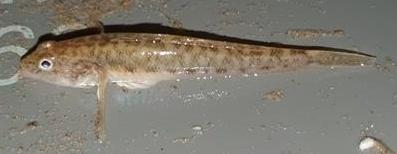Goby: (4, 28, 382, 133)
